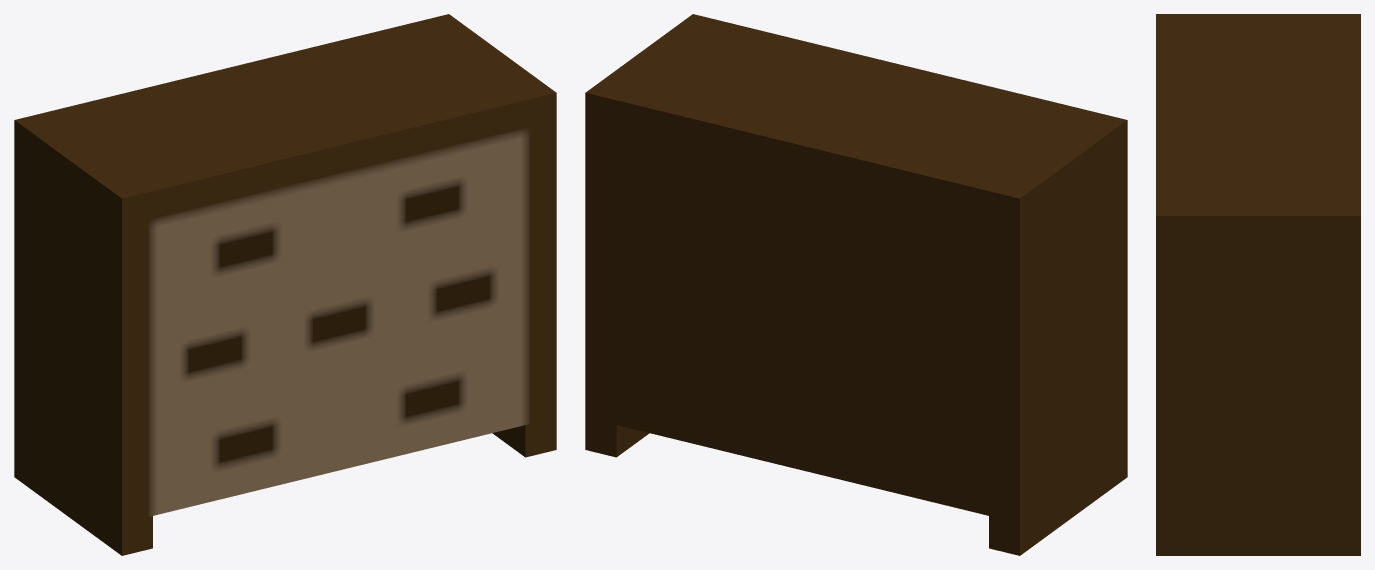
Rendered from cupboard1.obj.
The picture shows the model from 3 angles, left to right: view 1: azimuth 30°, elevation 25°; view 2: azimuth 150°, elevation 25°; view 3: azimuth 270°, elevation 25°; orthographic projection. The views are drawn at different scales.
Parts seen in each view (by area): view 1: cupboard1; view 2: cupboard1; view 3: cupboard1.
Part boxes in pixels (bbox=[...]): cupboard1: bbox=[14, 14, 556, 555]; cupboard1: bbox=[585, 14, 1127, 555]; cupboard1: bbox=[1156, 14, 1360, 555].
Size of the model in its own units: 14 by 11 by 6.
